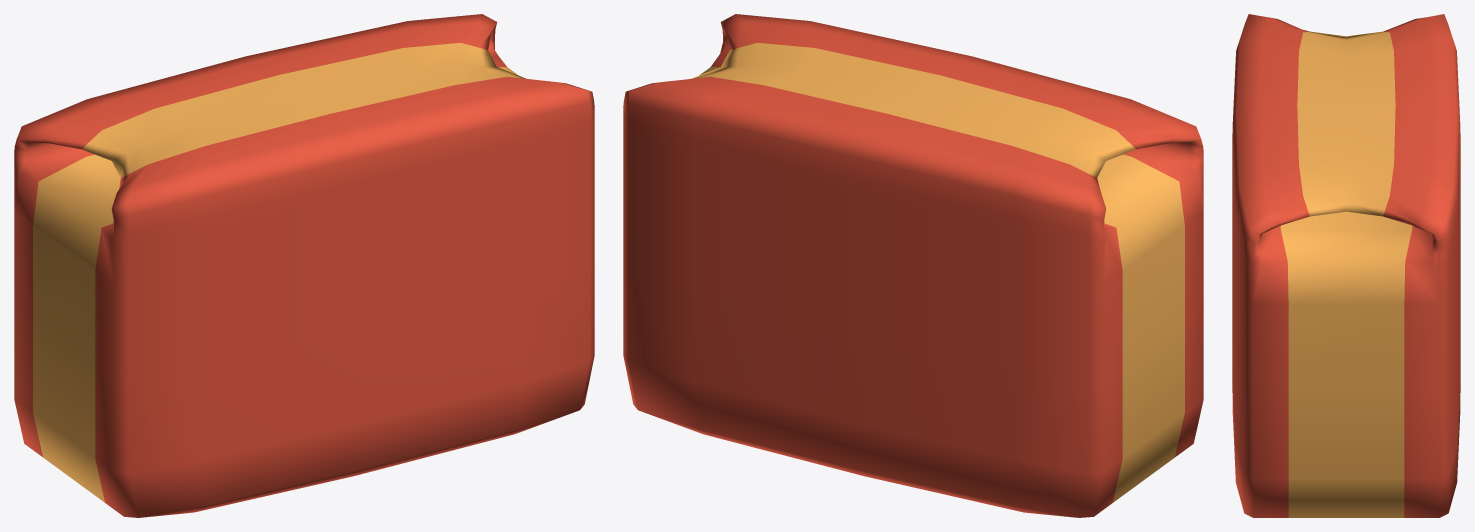
File: BoxCookies_00.fbx
The picture shows the model from 3 angles, left to right: view 1: azimuth 30°, elevation 25°; view 2: azimuth 150°, elevation 25°; view 3: azimuth 270°, elevation 25°; orthographic projection. The views are drawn at different scales.
Visible parts, largest first — view 1: BoxCookies_00; view 2: BoxCookies_00; view 3: BoxCookies_00.
Part boxes in pixels (bbox=[...]): BoxCookies_00: bbox=[14, 14, 594, 517]; BoxCookies_00: bbox=[623, 14, 1203, 517]; BoxCookies_00: bbox=[1232, 14, 1460, 517].
Size of the model in its own units: 38 by 26.07 by 16.77.
